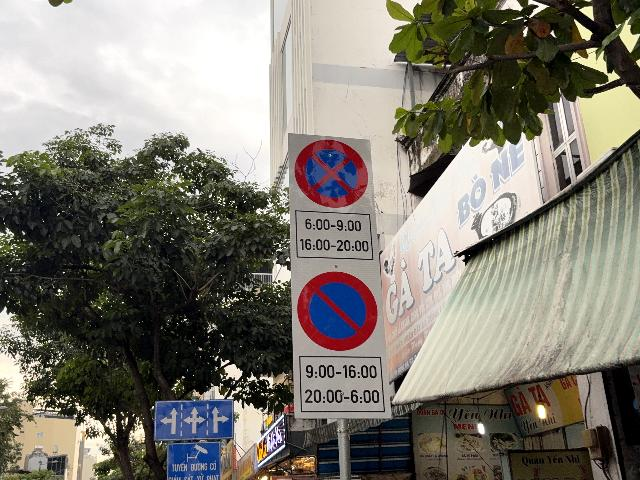cam-do-xe: (297, 271, 378, 351)
cam-dung-va-do-xe: (294, 139, 369, 208)
